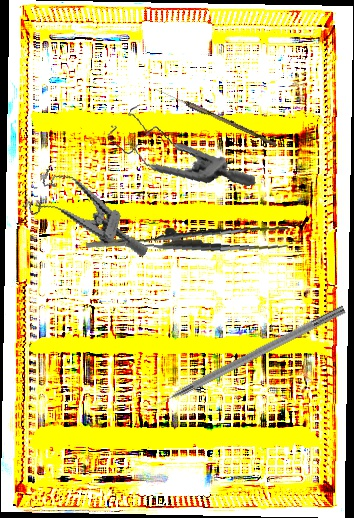Hook Surgical: (138, 303, 347, 417)
Speculum: (103, 90, 256, 205), (18, 164, 162, 258)
Surgical Spoon: (154, 87, 279, 147)
Tissue Forceps: (85, 206, 290, 269)
